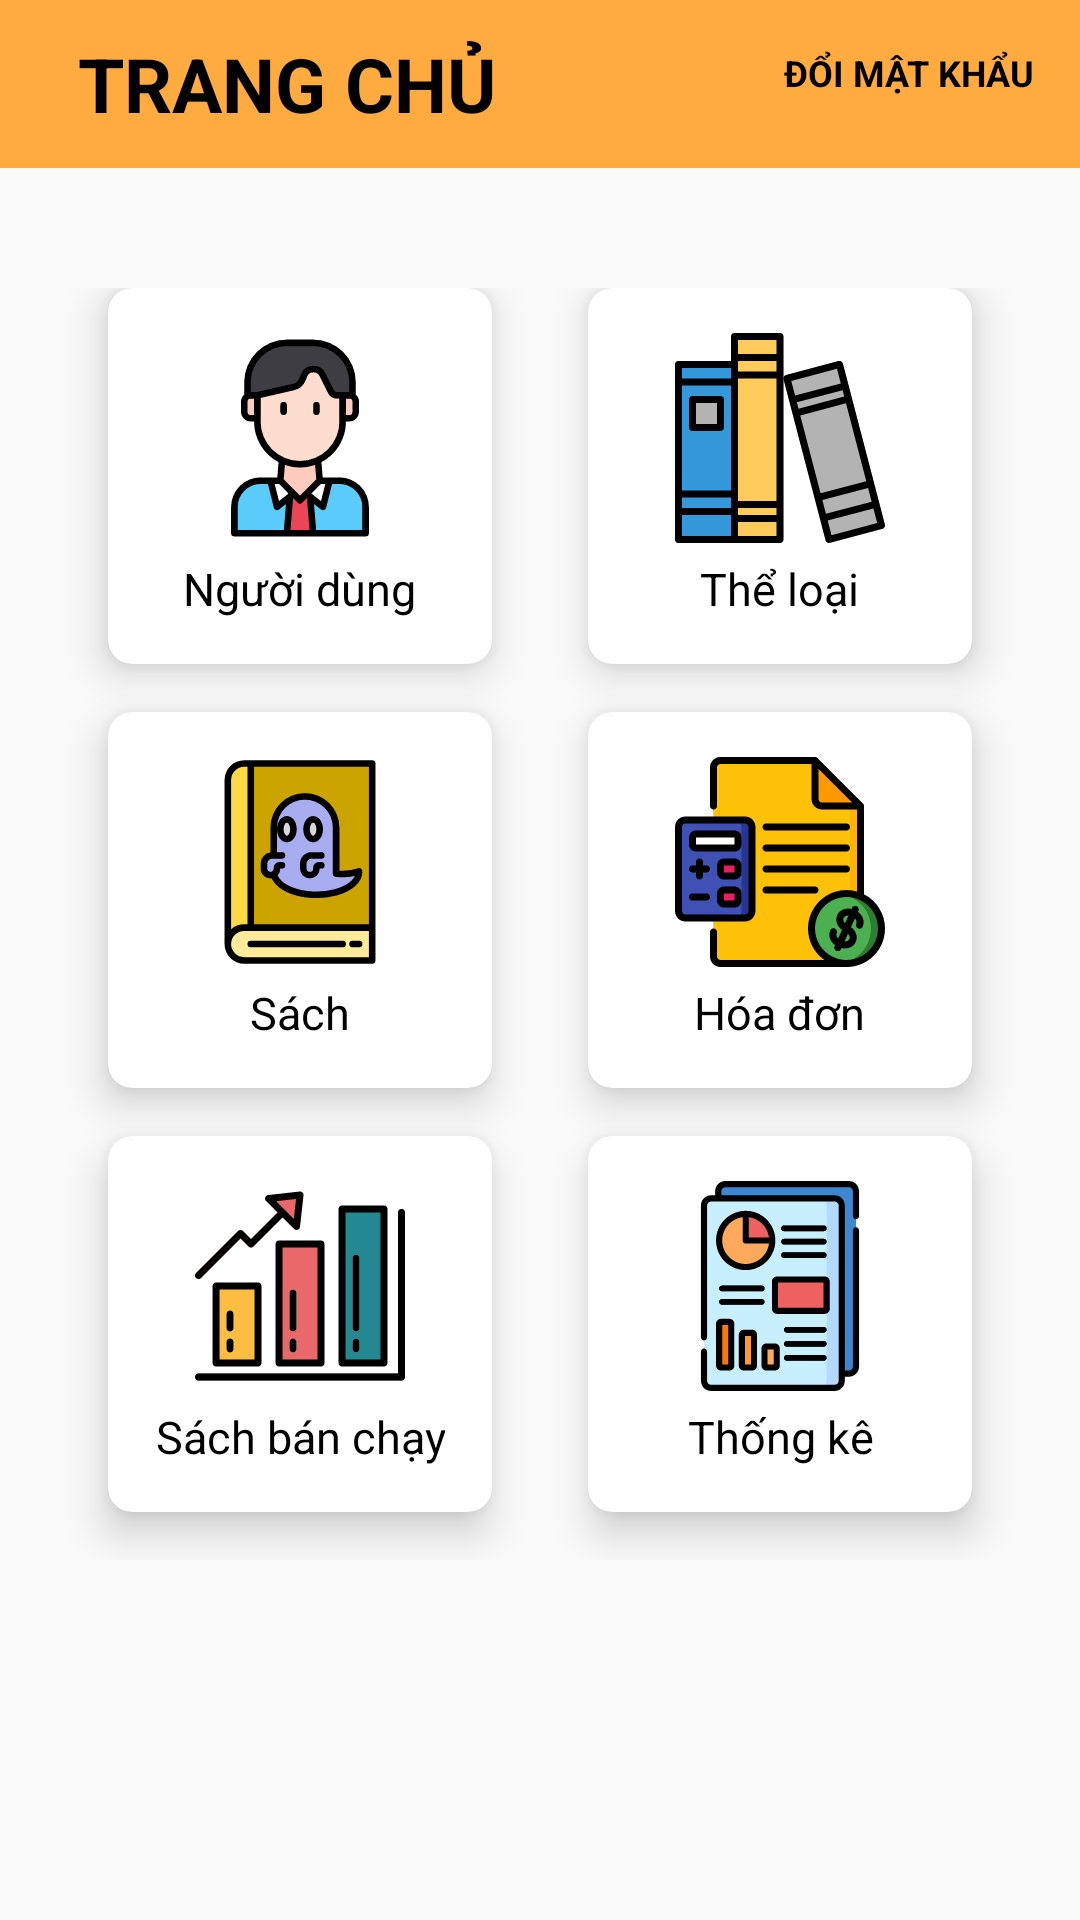

Screen size 1080px×1920px. Icon name, then its box in pixels as BBox(x1, y1, x2, y2):
books: BBox(675, 333, 885, 543)
boy: BBox(231, 339, 369, 537)
graph bar: BBox(195, 1191, 405, 1381)
seo report: BBox(701, 1181, 859, 1391)
